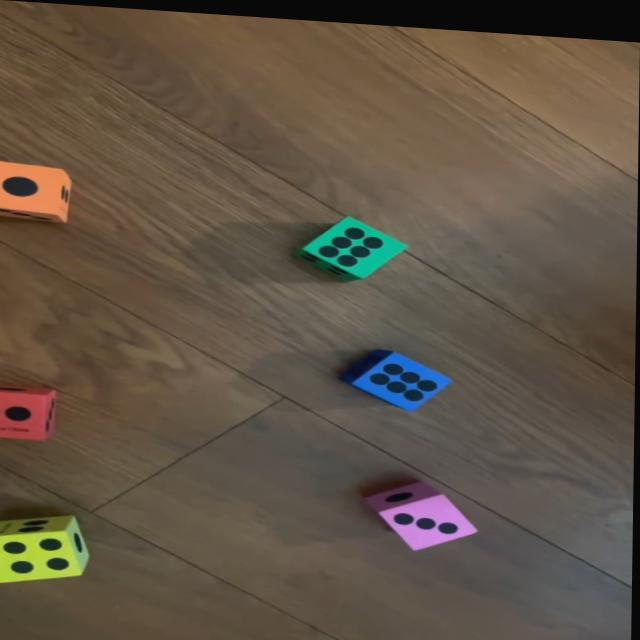cube: (297, 209, 411, 278), (343, 342, 457, 408), (0, 382, 59, 439)
